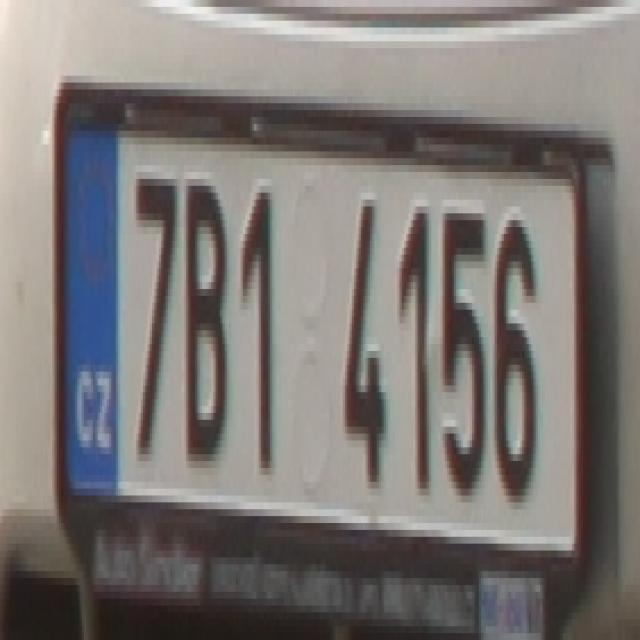1: (392, 193, 433, 482), (238, 179, 272, 475)
4: (343, 193, 388, 482)
5: (438, 206, 486, 488)
6: (495, 206, 538, 488)
7: (129, 158, 177, 454)
B: (182, 165, 227, 468)
